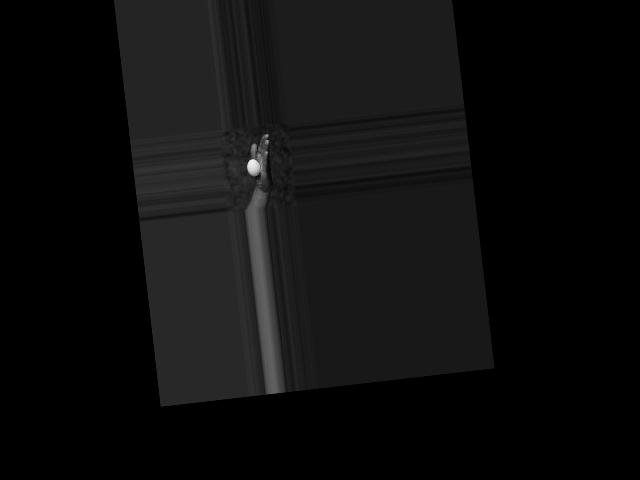egg: (246, 158, 261, 177)
